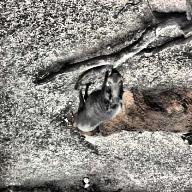boar: (72, 76, 139, 150)
